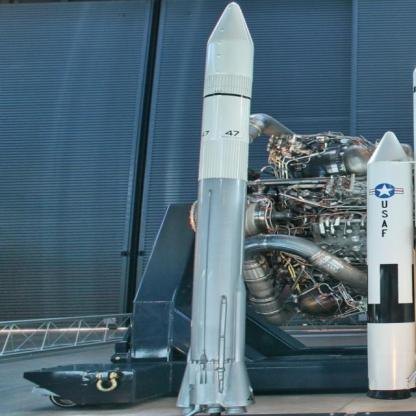MIL_TBM: (184, 1, 258, 416), (360, 126, 416, 400)
